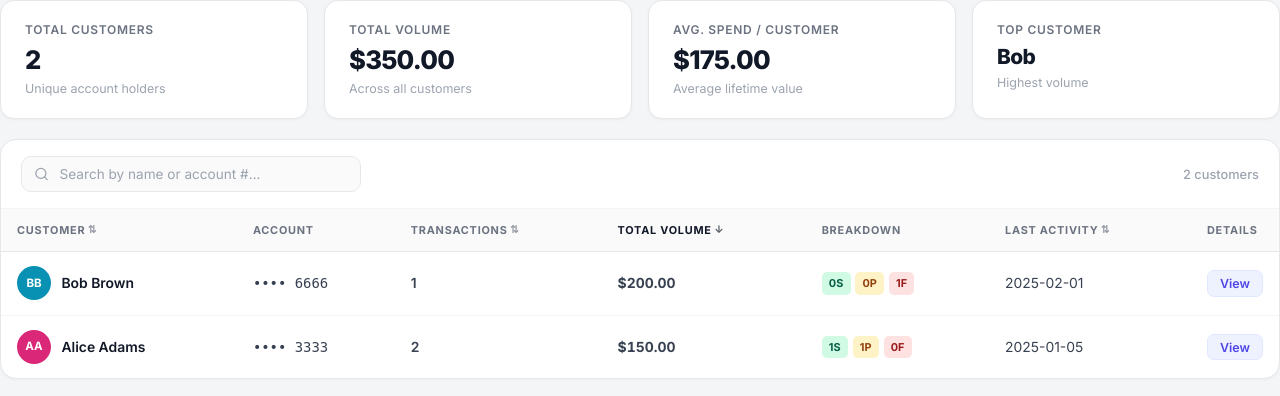
Test: CustomersPage › filters customers by search
The image size is (1280, 396).
Type "Bob" into the field with placeholder "Search by name or account #..." at (191,174), box [21,156,361,192]
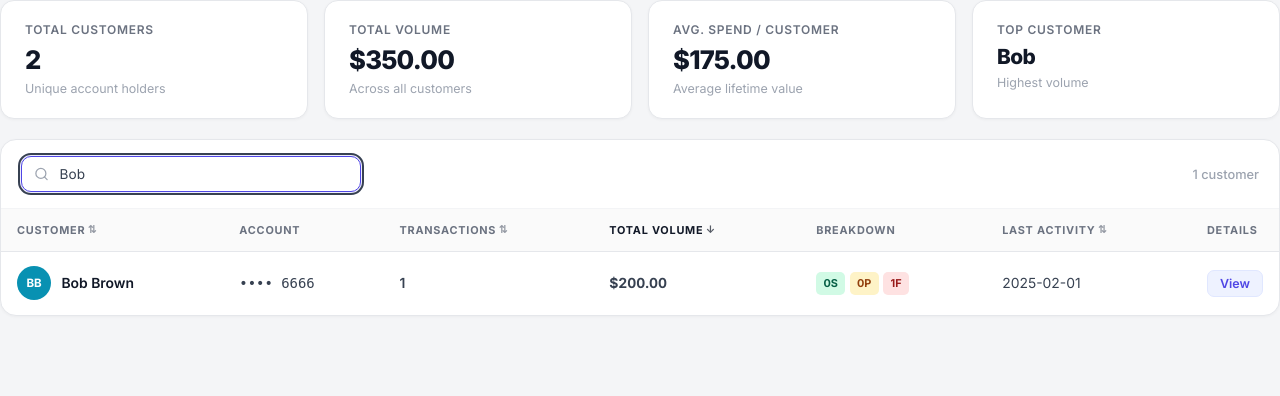
Expected: the text "Bob Brown" is shown, [61,273,134,294]
Now the text "Alice Adams" is gone
